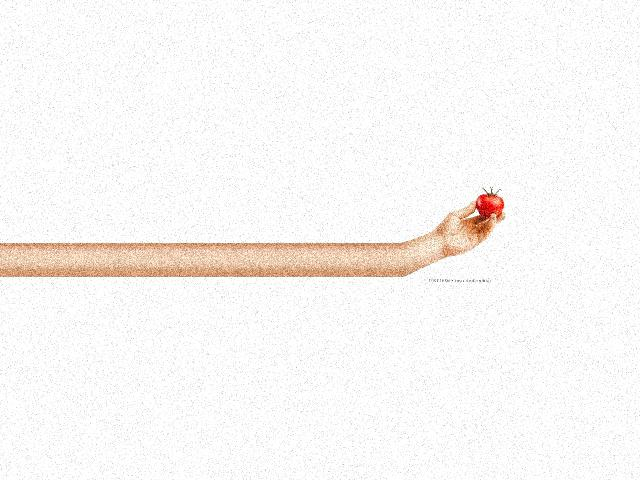tomato: (475, 194, 503, 218)
